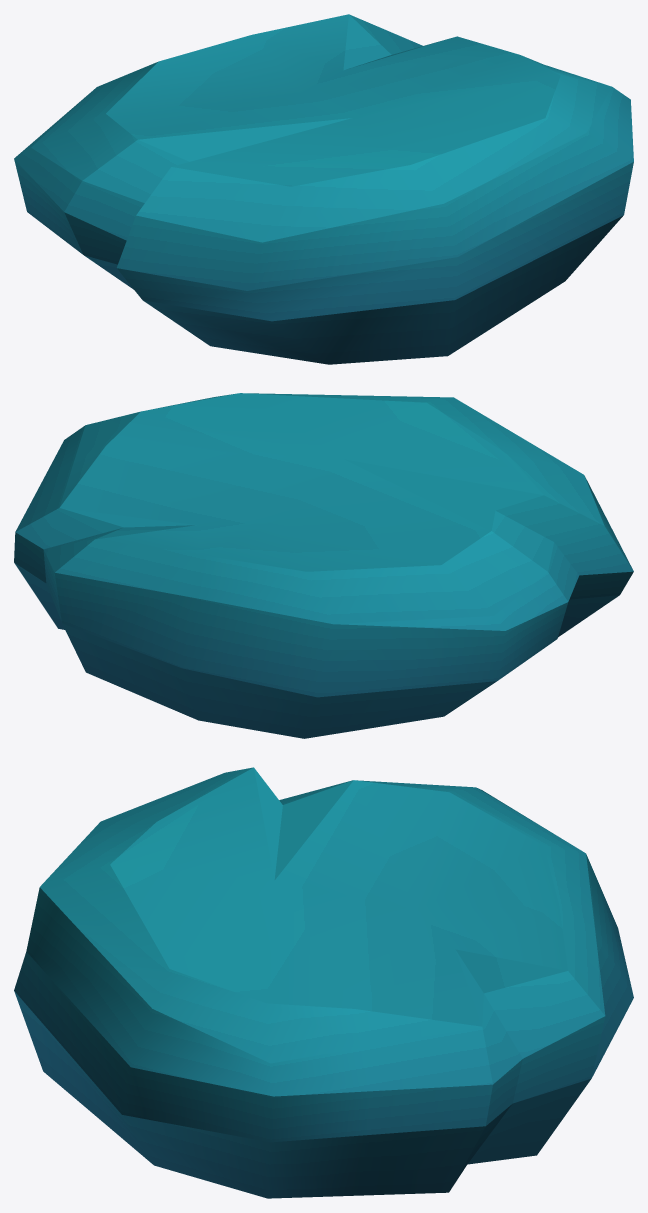
File: RockB.fbx
3 renders of one model, top to bottom at view 1: azimuth 30°, elevation 25°; view 2: azimuth 150°, elevation 25°; view 3: azimuth 270°, elevation 25°, orthographic. The views are drawn at different scales.
Parts seen in each view (by area): view 1: RockB; view 2: RockB; view 3: RockB.
Boxes of the visible parts, left/top/right/bottom form: RockB: left=14, top=14, right=633, bottom=364; RockB: left=14, top=393, right=633, bottom=738; RockB: left=14, top=767, right=633, bottom=1198.
Size of the model in its own units: 108 by 32.92 by 91.73.
Materials: 1 (1 with a texture image).
